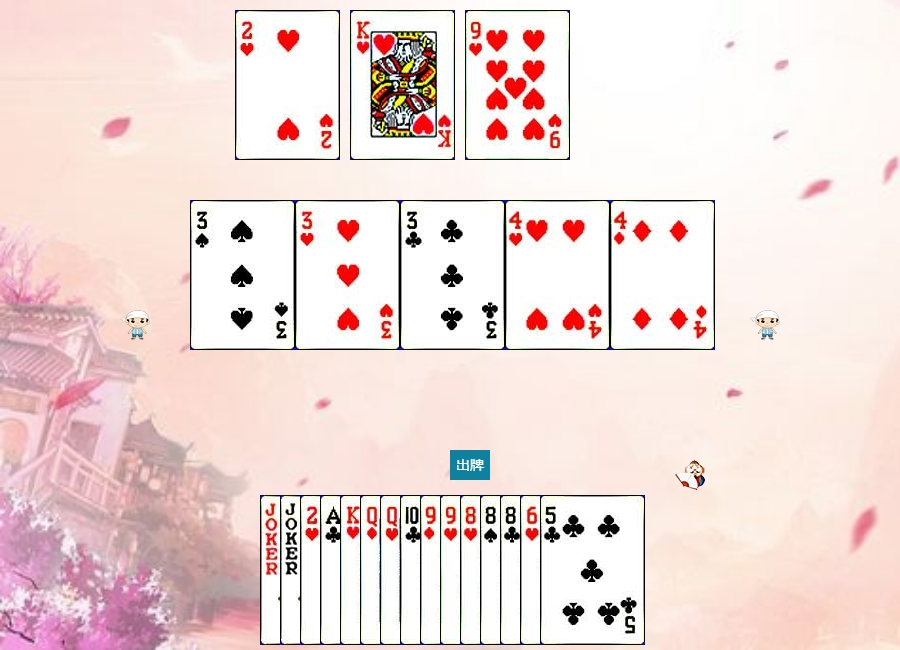10~2: (400, 495, 505, 645)
12~1: (360, 495, 465, 645)
12~3: (380, 495, 485, 645)
13~3: (350, 10, 455, 160), (340, 495, 445, 645)
14~2: (320, 495, 425, 645)
15~3: (235, 10, 340, 160), (300, 495, 405, 645)
17~3: (280, 495, 385, 645)
18~4: (260, 495, 365, 645)
3~2: (400, 200, 505, 350)
3~3: (295, 200, 400, 350)
3~4: (190, 200, 295, 350)
4~1: (610, 200, 715, 350)
4~3: (505, 200, 610, 350)
5~2: (540, 495, 645, 645)
6~3: (520, 495, 625, 645)
8~2: (500, 495, 605, 645)
8~3: (460, 495, 565, 645)
8~4: (480, 495, 585, 645)
9~1: (420, 495, 525, 645)
9~3: (465, 10, 570, 160), (440, 495, 545, 645)
